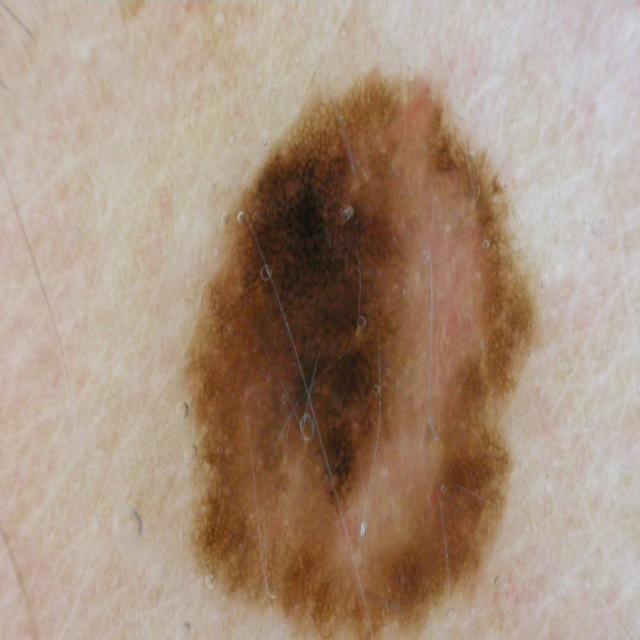Melanoma: (149, 55, 620, 640)
